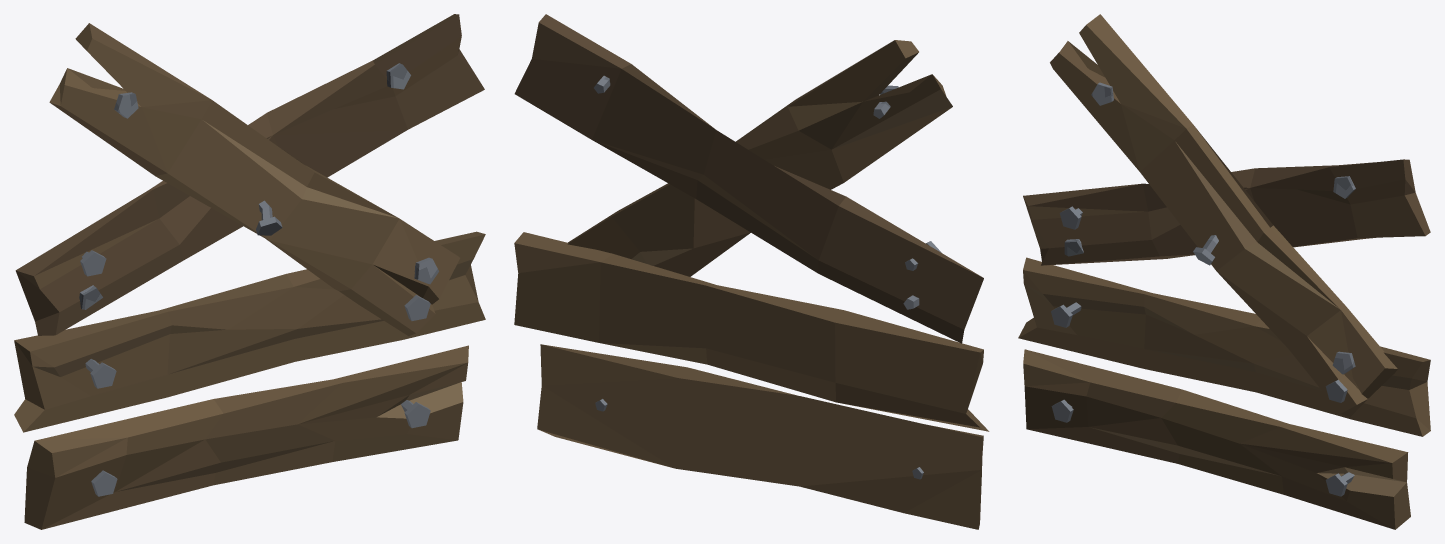
The model's file is crypt_boards_b.gltf.
The picture shows the model from 3 angles, left to right: view 1: azimuth 30°, elevation 25°; view 2: azimuth 150°, elevation 25°; view 3: azimuth 330°, elevation 25°; orthographic projection. The views are drawn at different scales.
Visible parts, largest first — view 1: crypt_boards_b; view 2: crypt_boards_b; view 3: crypt_boards_b.
Boxes of the visible parts, bbox=[...] form: crypt_boards_b: bbox=[14, 14, 485, 529]; crypt_boards_b: bbox=[514, 14, 989, 529]; crypt_boards_b: bbox=[1018, 14, 1430, 529].
Size of the model in its own units: 1.21 by 1.22 by 0.1697.
Materials: 1 (1 with a texture image).
